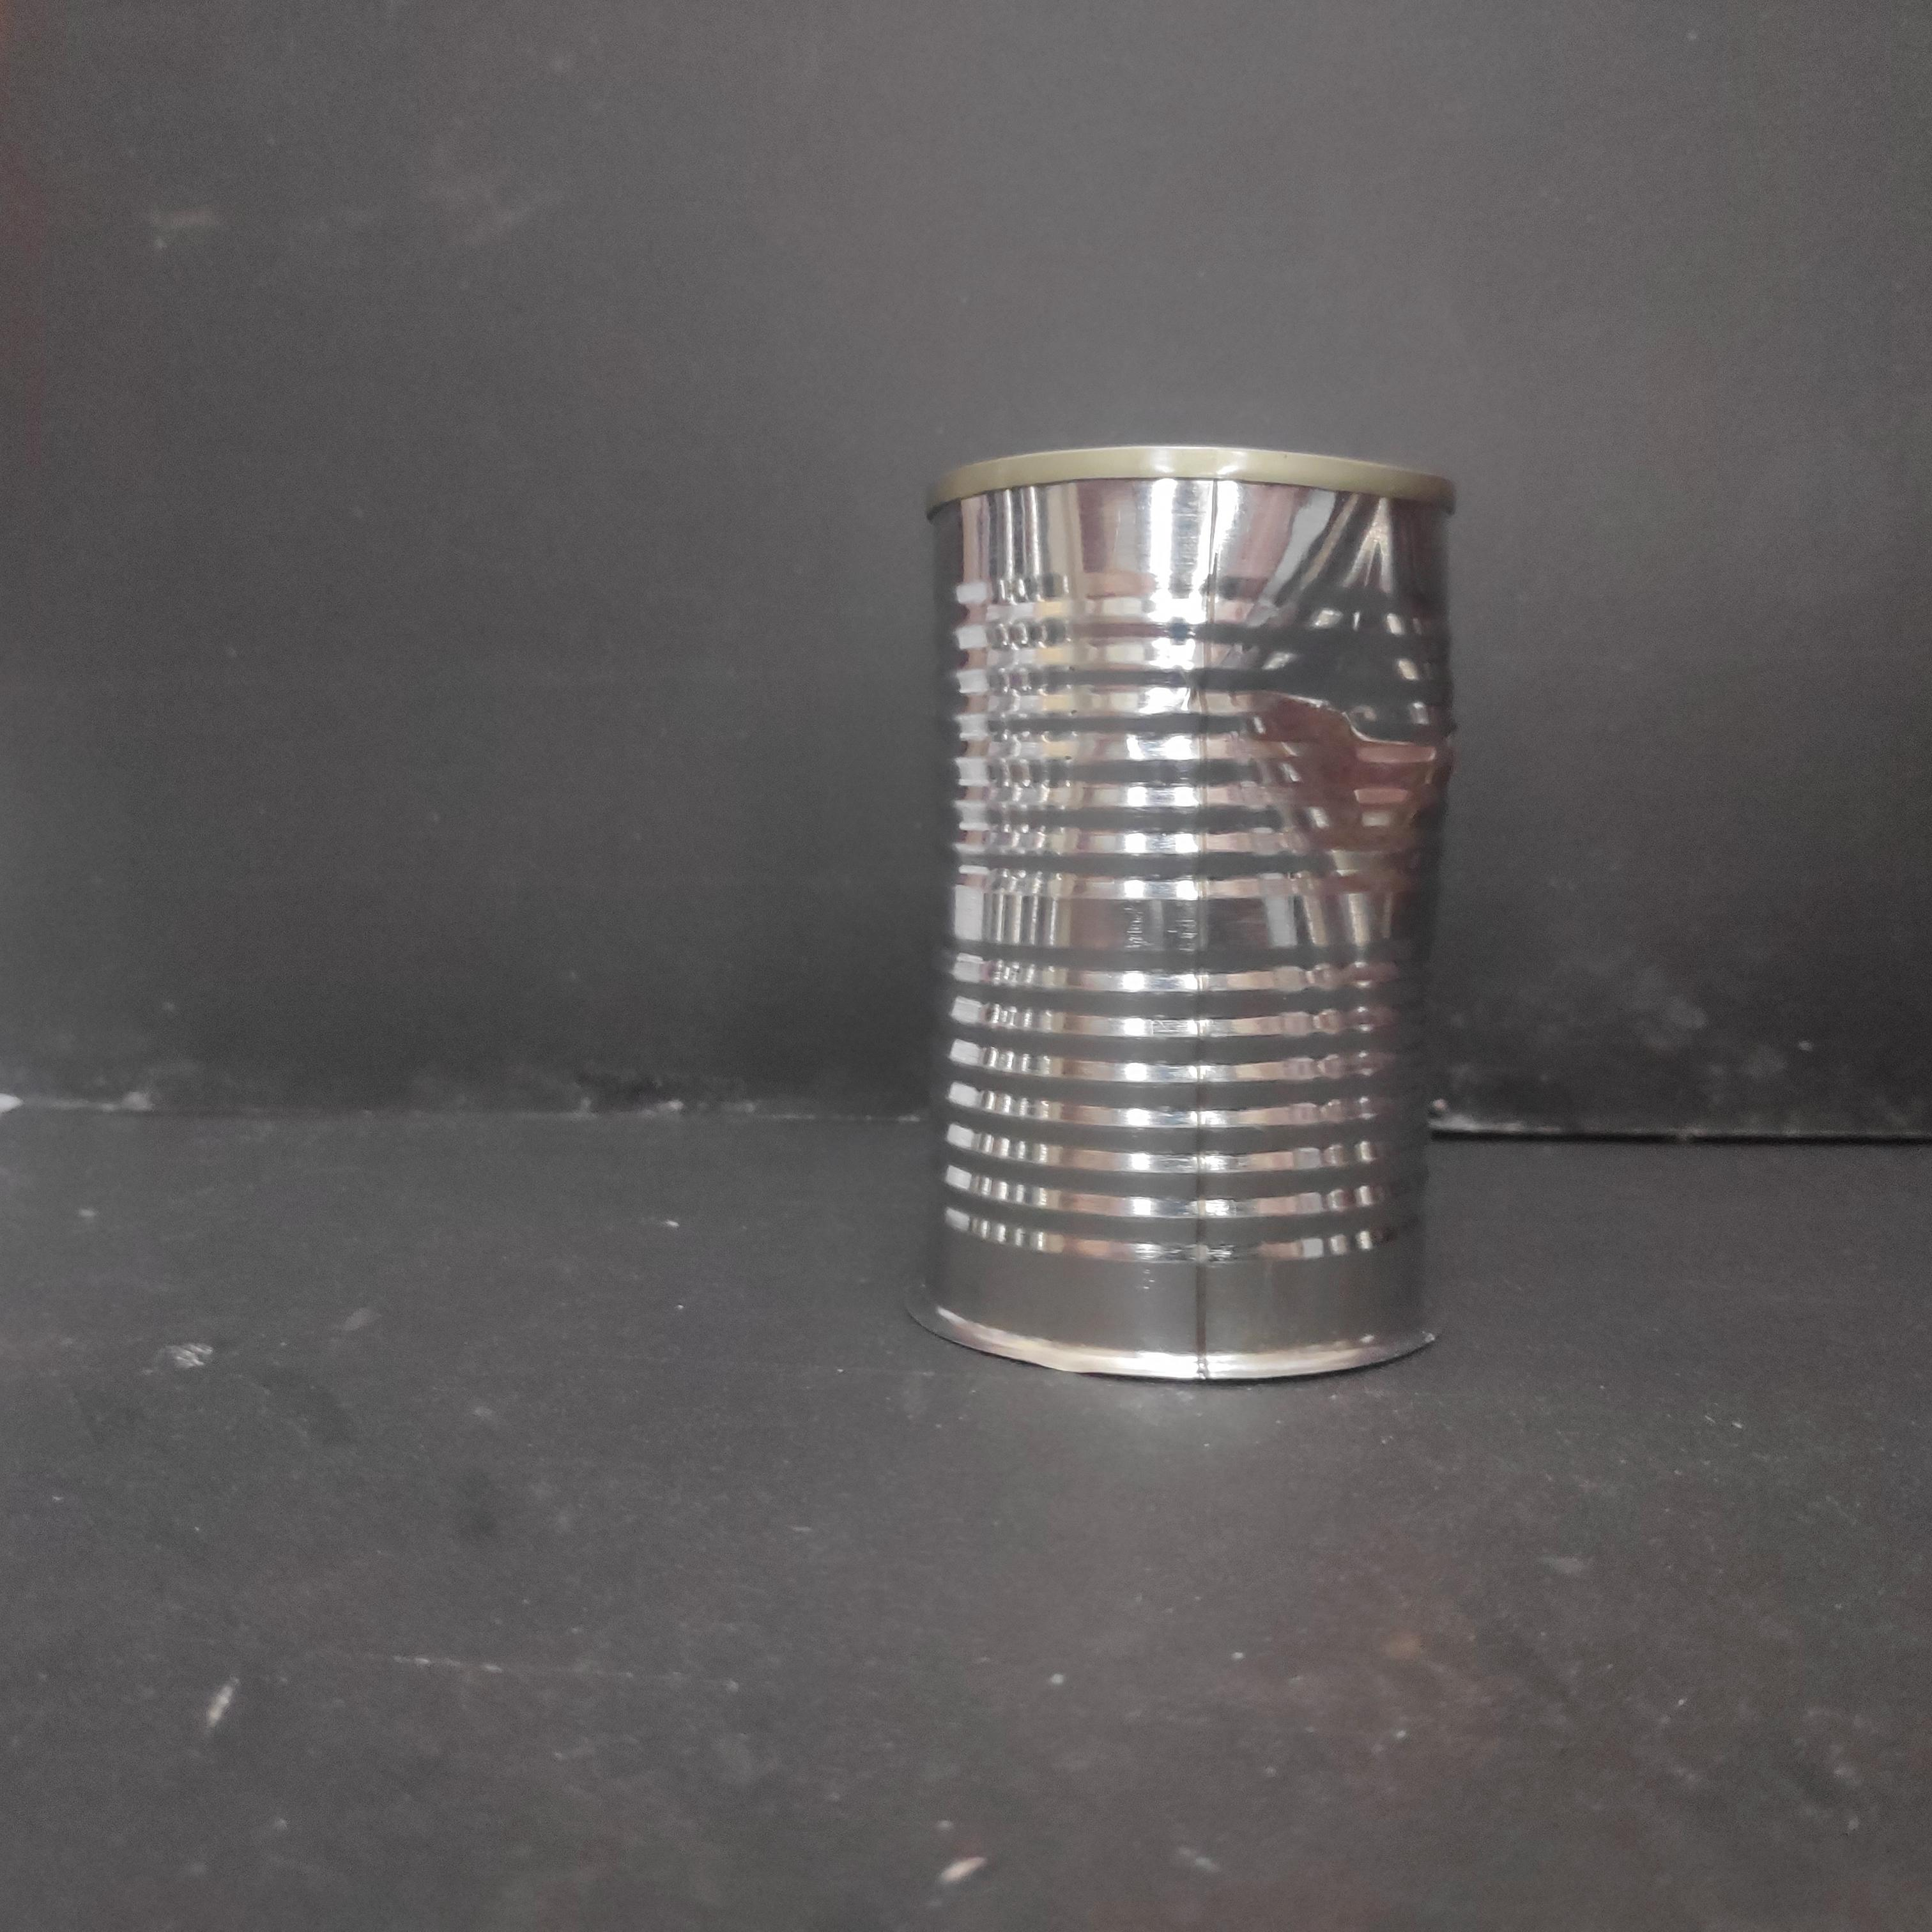Minor Defect: (911, 432, 1477, 1394)
